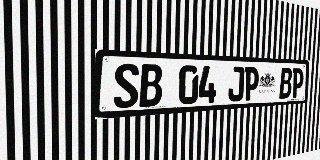0: (178, 65, 199, 105)
4: (198, 66, 217, 104)
B: (139, 64, 163, 107), (279, 68, 293, 99)
J: (228, 66, 245, 102)
P: (244, 67, 259, 101), (291, 68, 304, 98)
S: (114, 63, 139, 109)
